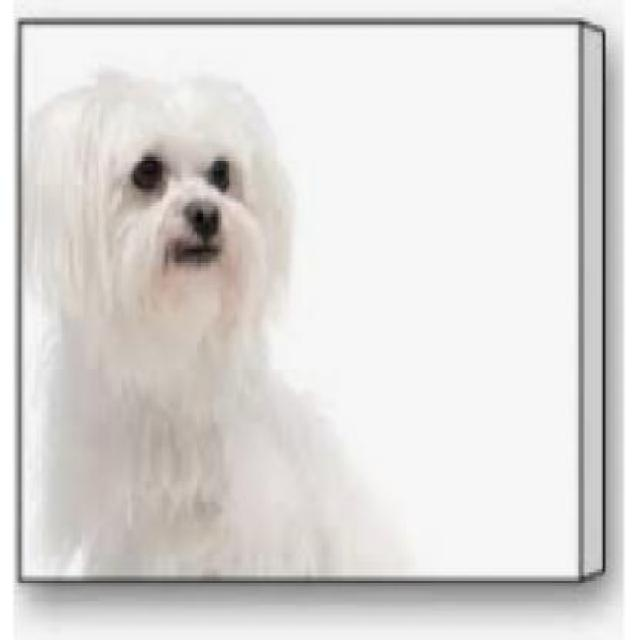Dog: (25, 68, 400, 584)
